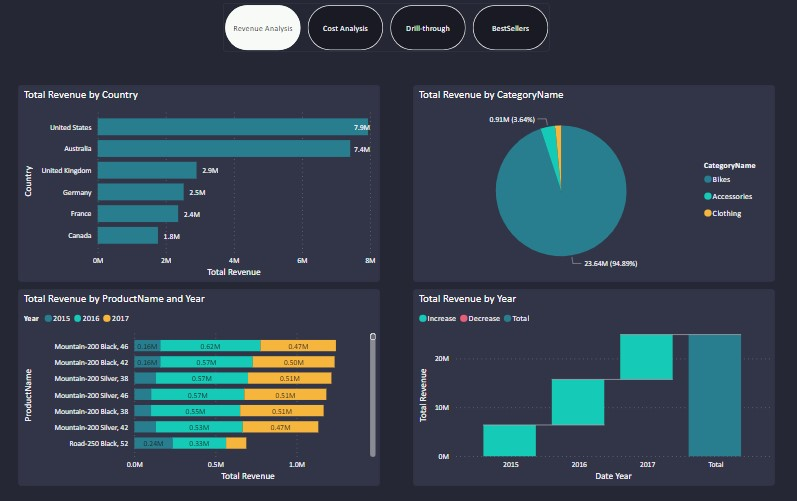

Layout of this report page (visuals, bound fields, positions):
{"tool":"powerbi","page":{"name":"Revenue Analysis","canvas":[1280,720],"ordinal":0},"visuals":[{"type":"barChart","fields":{"Y":["Table.Total Revenue"],"Category":["Territories.Continent Hierarchy.Continent","Territories.Continent Hierarchy.Country","Territories.Continent Hierarchy.Region"]},"box":[80.8,126.1,513.1,279.2],"z":0},{"type":"pageNavigator","box":[343,29.8,401.1,68],"z":1000},{"type":"pieChart","fields":{"Y":["Table.Total Revenue"],"Category":["Product_Categories.CategoryName"]},"box":[640.6,126.1,513.1,279.2],"z":2000},{"type":"barChart","fields":{"Y":["Table.Total Revenue"],"Category":["Products.ProductName"],"Series":["Calendar.Year"]},"box":[80.8,415.3,513.1,279.2],"z":3000},{"type":"waterfallChart","fields":{"Y":["Table.Total Revenue"],"Category":["Calendar.Date.Variation.Date Hierarchy.Year","Calendar.Date.Variation.Date Hierarchy.Quarter","Calendar.Date.Variation.Date Hierarchy.Month","Calendar.Date.Variation.Date Hierarchy.Day"]},"box":[640.6,415.3,513.1,279.2],"z":4000}]}

Visuals, with their boxes on the page's 1280x720 design canvas (x1, y1, x2, y2). These are canvas units, not pixel positions in the 797x501 screenshot, which may show the page scaled, cropped or inside an application window:
barChart - Table.Total Revenue x Territories.Continent Hierarchy.Continent: <region>81, 126, 594, 405</region>
pageNavigator: <region>343, 30, 744, 98</region>
pieChart - Table.Total Revenue x Product_Categories.CategoryName: <region>641, 126, 1154, 405</region>
barChart - Table.Total Revenue x Products.ProductName: <region>81, 415, 594, 694</region>
waterfallChart - Table.Total Revenue x Calendar.Date.Variation.Date Hierarchy.Year: <region>641, 415, 1154, 694</region>
